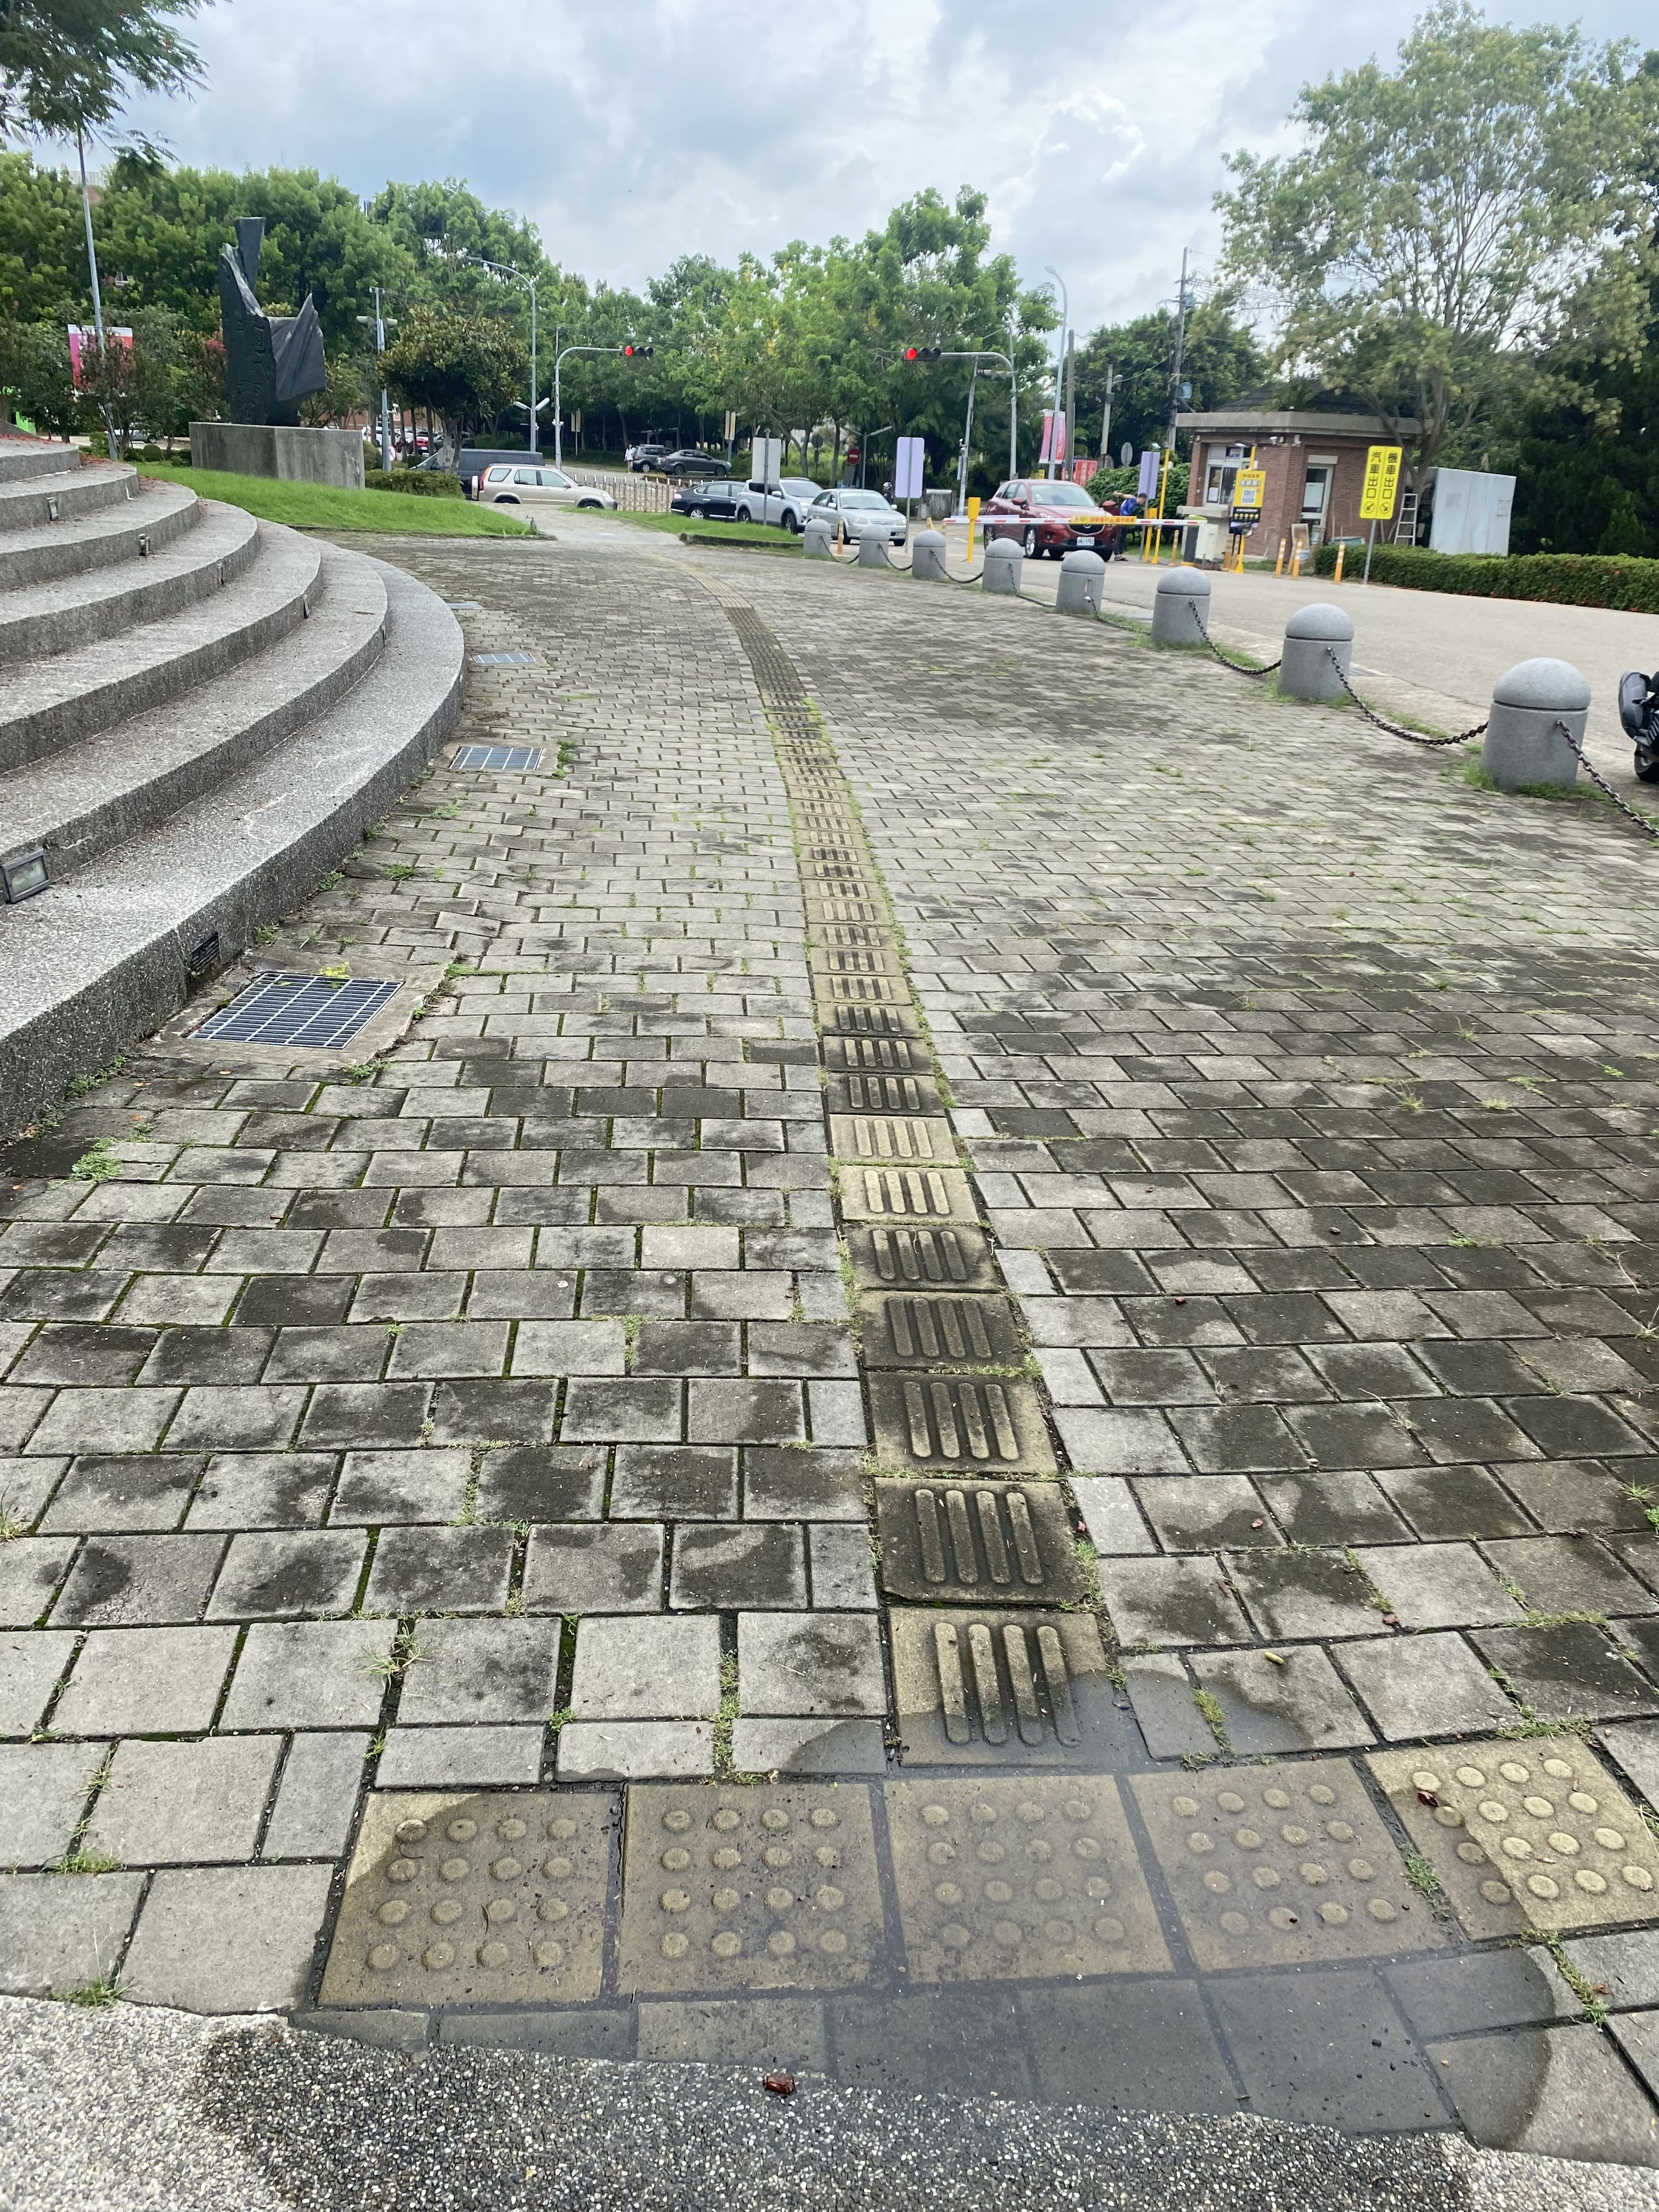sidewalk: (23, 463, 1659, 2212)
